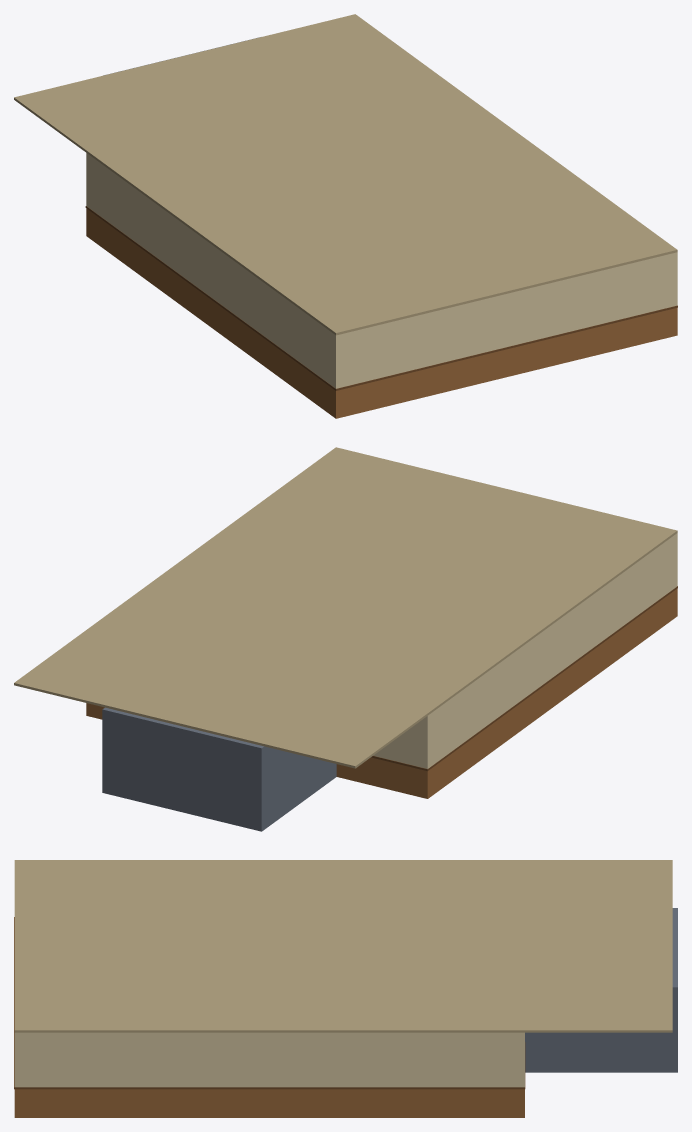
File: room_break_room.glb
3 renders of one model, top to bottom at view 1: azimuth 30°, elevation 25°; view 2: azimuth 150°, elevation 25°; view 3: azimuth 270°, elevation 25°, orthographic. The views are drawn at different scales.
Parts seen in each view (by area): view 1: room_break_room; view 2: room_break_room; view 3: room_break_room.
Part boxes in pixels (x1,y1,x2,y2): room_break_room: (14,14,677,418); room_break_room: (14,447,677,831); room_break_room: (14,860,677,1117).
Bounding box in the file's own units: 15.02 × 3.64 × 24.72.
Materials: 1 (1 with a texture image).
